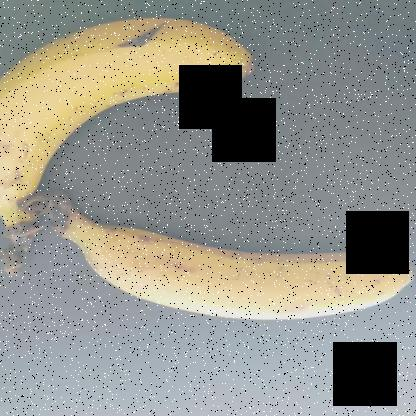ripe: (25, 199, 416, 360), (1, 11, 258, 219)
